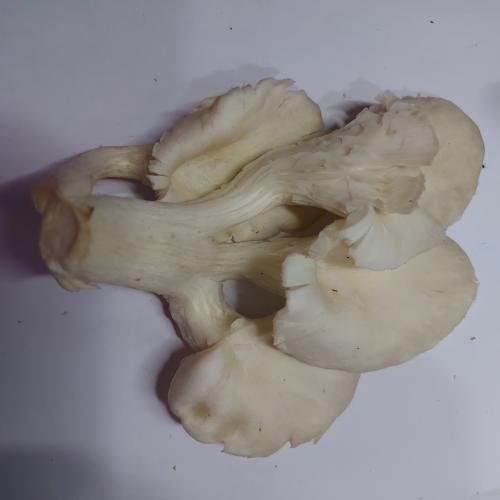Oyster Mushroom: (30, 77, 485, 459)
